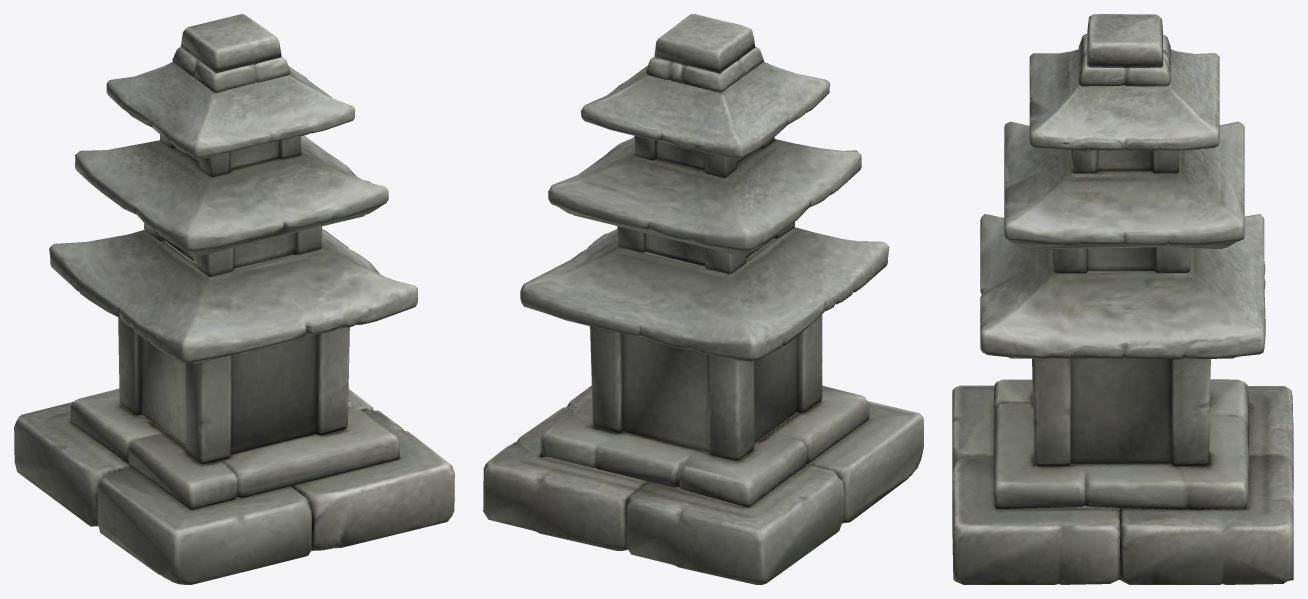
Rendered from q_geum.glb.
3 views of the same model, side by side, from view 1: azimuth 30°, elevation 25°; view 2: azimuth 150°, elevation 25°; view 3: azimuth 270°, elevation 25° (orthographic). The views are drawn at different scales.
Parts seen in each view (by area): view 1: tripo_node_333e73b8-08d8-4eb6-86ea-f99e04d350fb; view 2: tripo_node_333e73b8-08d8-4eb6-86ea-f99e04d350fb; view 3: tripo_node_333e73b8-08d8-4eb6-86ea-f99e04d350fb.
Part boxes in pixels (x1,y1,x2,y2): tripo_node_333e73b8-08d8-4eb6-86ea-f99e04d350fb: [14, 14, 454, 584]; tripo_node_333e73b8-08d8-4eb6-86ea-f99e04d350fb: [483, 14, 923, 584]; tripo_node_333e73b8-08d8-4eb6-86ea-f99e04d350fb: [952, 14, 1293, 584].
Bounding box in the file's own units: 0.6387 × 0.998 × 0.6387.
1 material, 1 textured.
